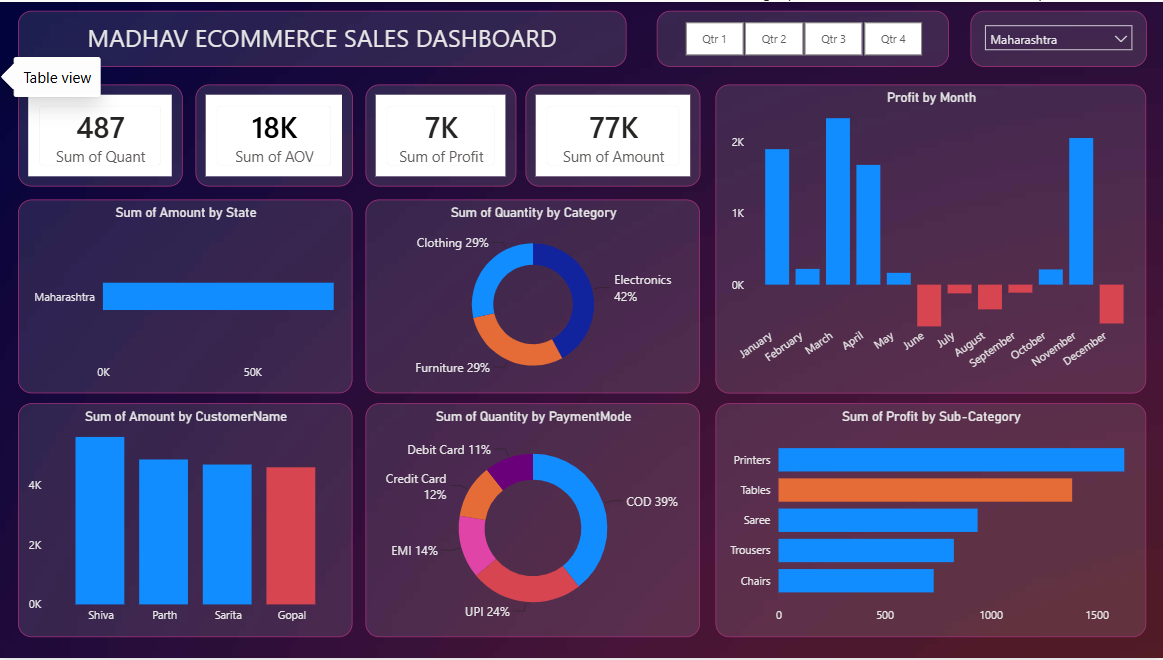

The page's visual inventory and layout, read from the dashboard file:
{"tool":"powerbi","page":{"name":"Page 1","canvas":[1280,720],"ordinal":0},"visuals":[{"type":"columnChart","title":"Profit by Month","fields":{"Category":["Orders.Order Date.Variation.Date Hierarchy.Month"],"Y":["Sum(Details.Profit)"]},"box":[788.1,91.1,472.6,339.4],"z":1000},{"type":"barChart","fields":{"Category":["Details.Sub-Category"],"Y":["Sum(Details.Profit)"]},"box":[788.1,440.3,472.6,256.6],"z":2000},{"type":"donutChart","fields":{"Category":["Details.Category"],"Y":["Sum(Details.Quantity)"]},"box":[403.9,217.4,367.4,213.1],"z":3000},{"type":"donutChart","fields":{"Y":["Sum(Details.Quantity)"],"Category":["Details.PaymentMode"]},"box":[403.9,440.3,367.4,256.6],"z":4000},{"type":"cardVisual","fields":{"Data":["Sum(Details.Amount)"]},"box":[579.1,91.1,192.1,112.2],"z":5000},{"type":"cardVisual","fields":{"Data":["Sum(Details.Quantity)"]},"box":[22.4,91.1,180.9,112.2],"z":6000},{"type":"cardVisual","fields":{"Data":["Sum(Details.Profit)"]},"box":[403.9,91.1,165.5,112.2],"z":7000},{"type":"cardVisual","fields":{"Data":["Sum(Details.AOV)"]},"box":[217.4,91.1,172.5,112.2],"z":8000},{"type":"barChart","fields":{"Category":["Orders.State"],"Y":["Sum(Details.Amount)"]},"box":[22.4,217.4,367.4,213.1],"z":9000},{"type":"columnChart","fields":{"Category":["Orders.CustomerName"],"Y":["Sum(Details.Amount)"]},"box":[22.4,440.3,367.4,256.6],"z":9001},{"type":"textbox","box":[22,9.6,668.3,61.7],"z":9002},{"type":"slicer","fields":{"Values":["Orders.Order Date.Variation.Date Hierarchy.Quarter"]},"box":[723.2,9.6,321.1,61.7],"z":9003},{"type":"slicer","fields":{"Values":["Orders.State"]},"box":[1067.6,9.6,193.5,61.7],"z":9004}]}

Visuals, with their boxes in screenshot pixels (x1, y1, x2, y2), scaled from the page's 1280x720 canvas onto the 1163x660 screenshot:
"Profit by Month" columnChart: [left=716, top=84, right=1145, bottom=395]
barChart - Details.Sub-Category x Sum(Details.Profit): [left=716, top=404, right=1145, bottom=639]
donutChart - Details.Category x Sum(Details.Quantity): [left=367, top=199, right=701, bottom=395]
donutChart - Sum(Details.Quantity) x Details.PaymentMode: [left=367, top=404, right=701, bottom=639]
cardVisual - Sum(Details.Amount): [left=526, top=84, right=701, bottom=186]
cardVisual - Sum(Details.Quantity): [left=20, top=84, right=185, bottom=186]
cardVisual - Sum(Details.Profit): [left=367, top=84, right=517, bottom=186]
cardVisual - Sum(Details.AOV): [left=198, top=84, right=354, bottom=186]
barChart - Orders.State x Sum(Details.Amount): [left=20, top=199, right=354, bottom=395]
columnChart - Orders.CustomerName x Sum(Details.Amount): [left=20, top=404, right=354, bottom=639]
textbox: [left=20, top=9, right=627, bottom=65]
slicer - Orders.Order Date.Variation.Date Hierarchy.Quarter: [left=657, top=9, right=949, bottom=65]
slicer - Orders.State: [left=970, top=9, right=1146, bottom=65]
